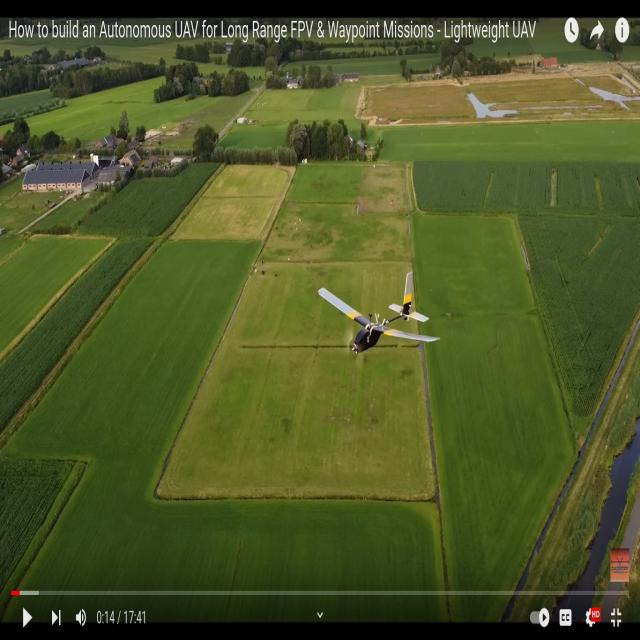drones: (313, 270, 443, 368)
